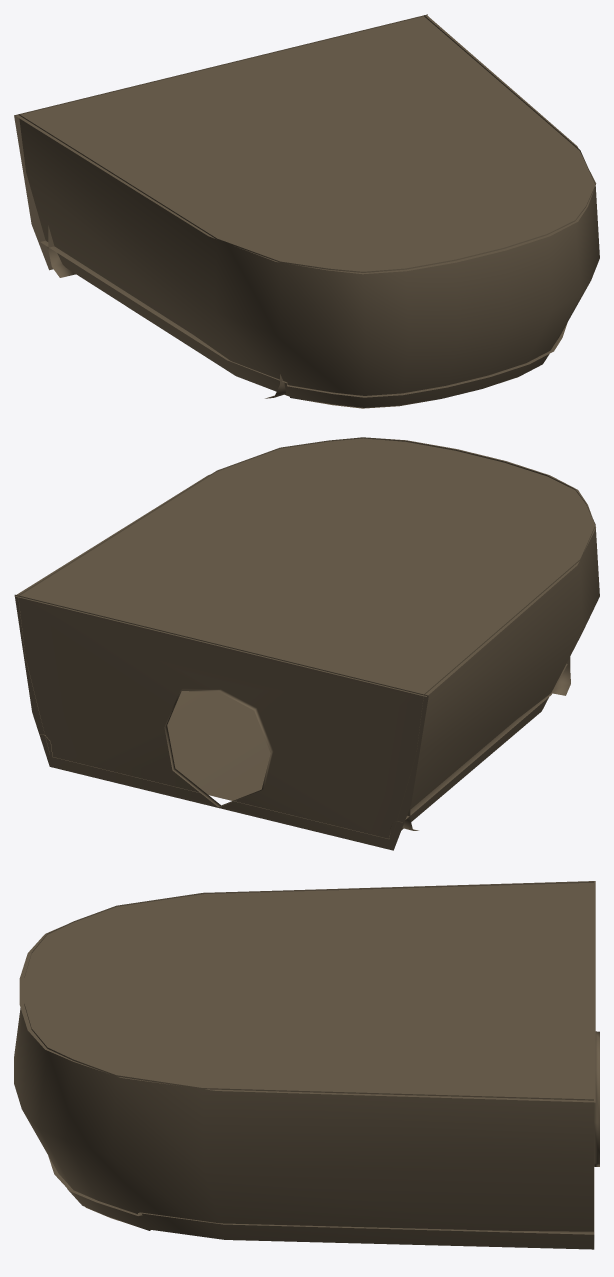
Rendered from SC_Estrutura.fbx.
3 renders of one model, top to bottom at view 1: azimuth 30°, elevation 25°; view 2: azimuth 150°, elevation 25°; view 3: azimuth 270°, elevation 25°, orthographic. The views are drawn at different scales.
Visible parts, largest first — view 1: Sc_teto, Sc_Vidro, Sc_chao, Sc_Parede, Suporte; view 2: Sc_teto, Sc_Parede, Sc_Vidro, Sc_chao; view 3: Sc_teto, Sc_Vidro, Sc_chao, Sc_Parede.
Boxes of the visible parts, bbox=[...] form: Sc_teto: bbox=[16, 15, 596, 274]; Sc_Vidro: bbox=[19, 15, 599, 407]; Sc_chao: bbox=[40, 240, 567, 408]; Sc_Parede: bbox=[14, 14, 427, 270]; Suporte: bbox=[48, 225, 285, 398]; Sc_teto: bbox=[14, 437, 595, 696]; Sc_Parede: bbox=[14, 594, 428, 850]; Sc_Vidro: bbox=[18, 437, 599, 833]; Sc_chao: bbox=[40, 663, 567, 838]; Sc_teto: bbox=[19, 881, 595, 1102]; Sc_Vidro: bbox=[14, 881, 593, 1249]; Sc_chao: bbox=[48, 1156, 594, 1249]; Sc_Parede: bbox=[594, 1031, 599, 1166].
Size of the model in its own units: 205 by 77.61 by 228.
